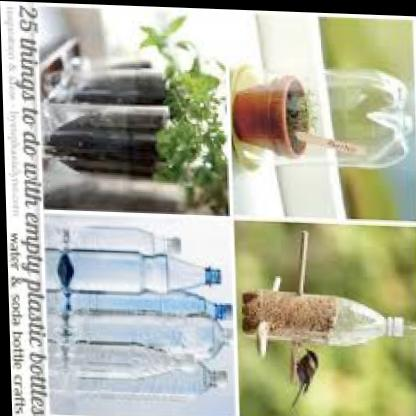Plastic: (57, 222, 224, 403)
